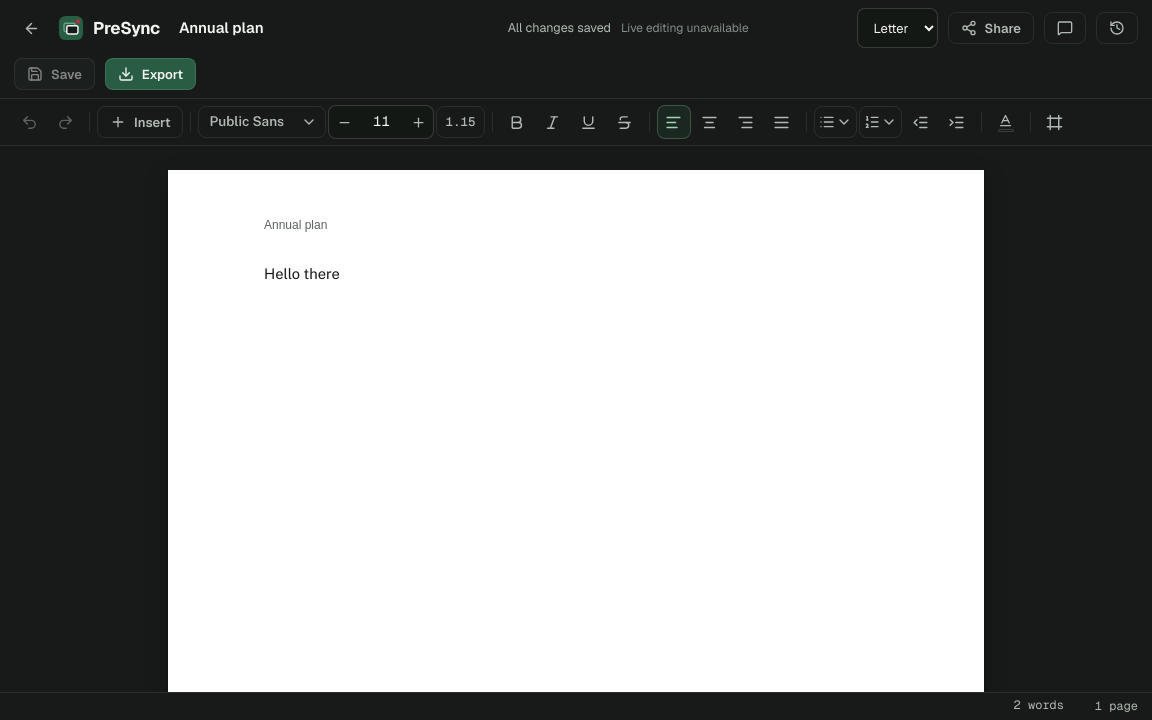
DocumentEditorPage › shows header navigation, with nothing to link on the first page
The width and height of the screenshot is (1152, 720).
Expected: the field named "Document title" is shown, [170,10,498,46]
Double-click the element showing "Annual plan" at {"x": 296, "y": 225}, box [264,218,327,232]
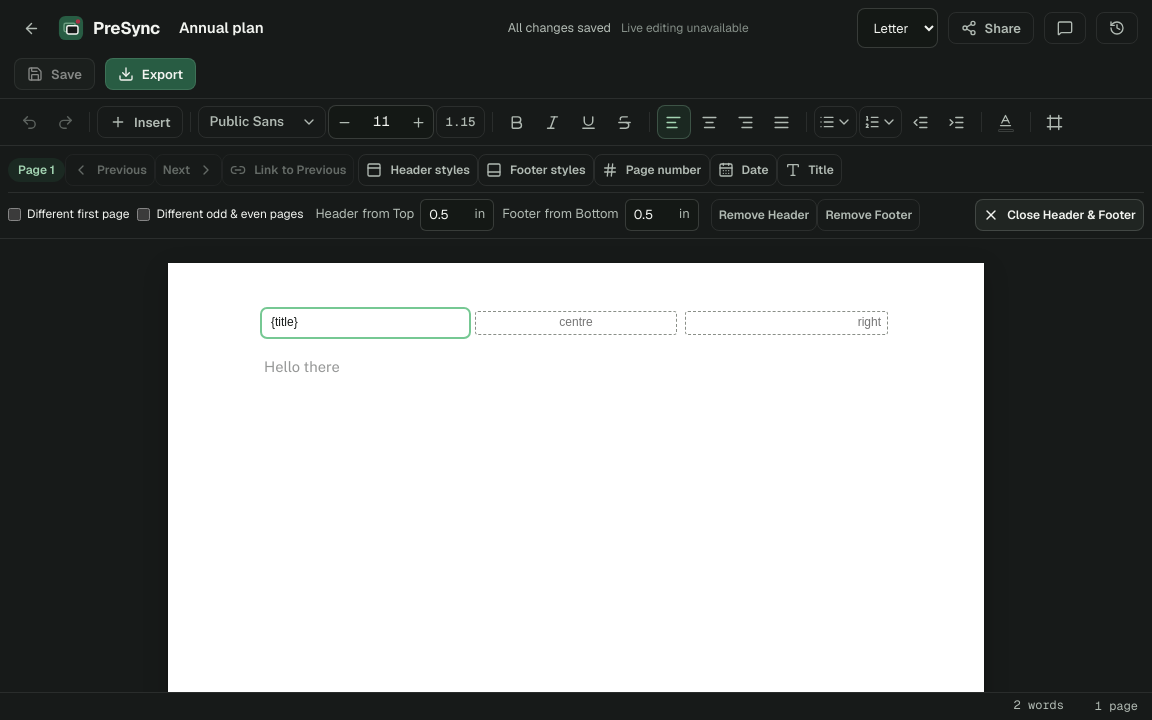
Expected: the field named "Header left" is shown, [264,311,467,335]
Expected: the button "Previous" is disabled, [65,154,155,186]
Expected: the button "Next" is disabled, [155,154,222,186]
